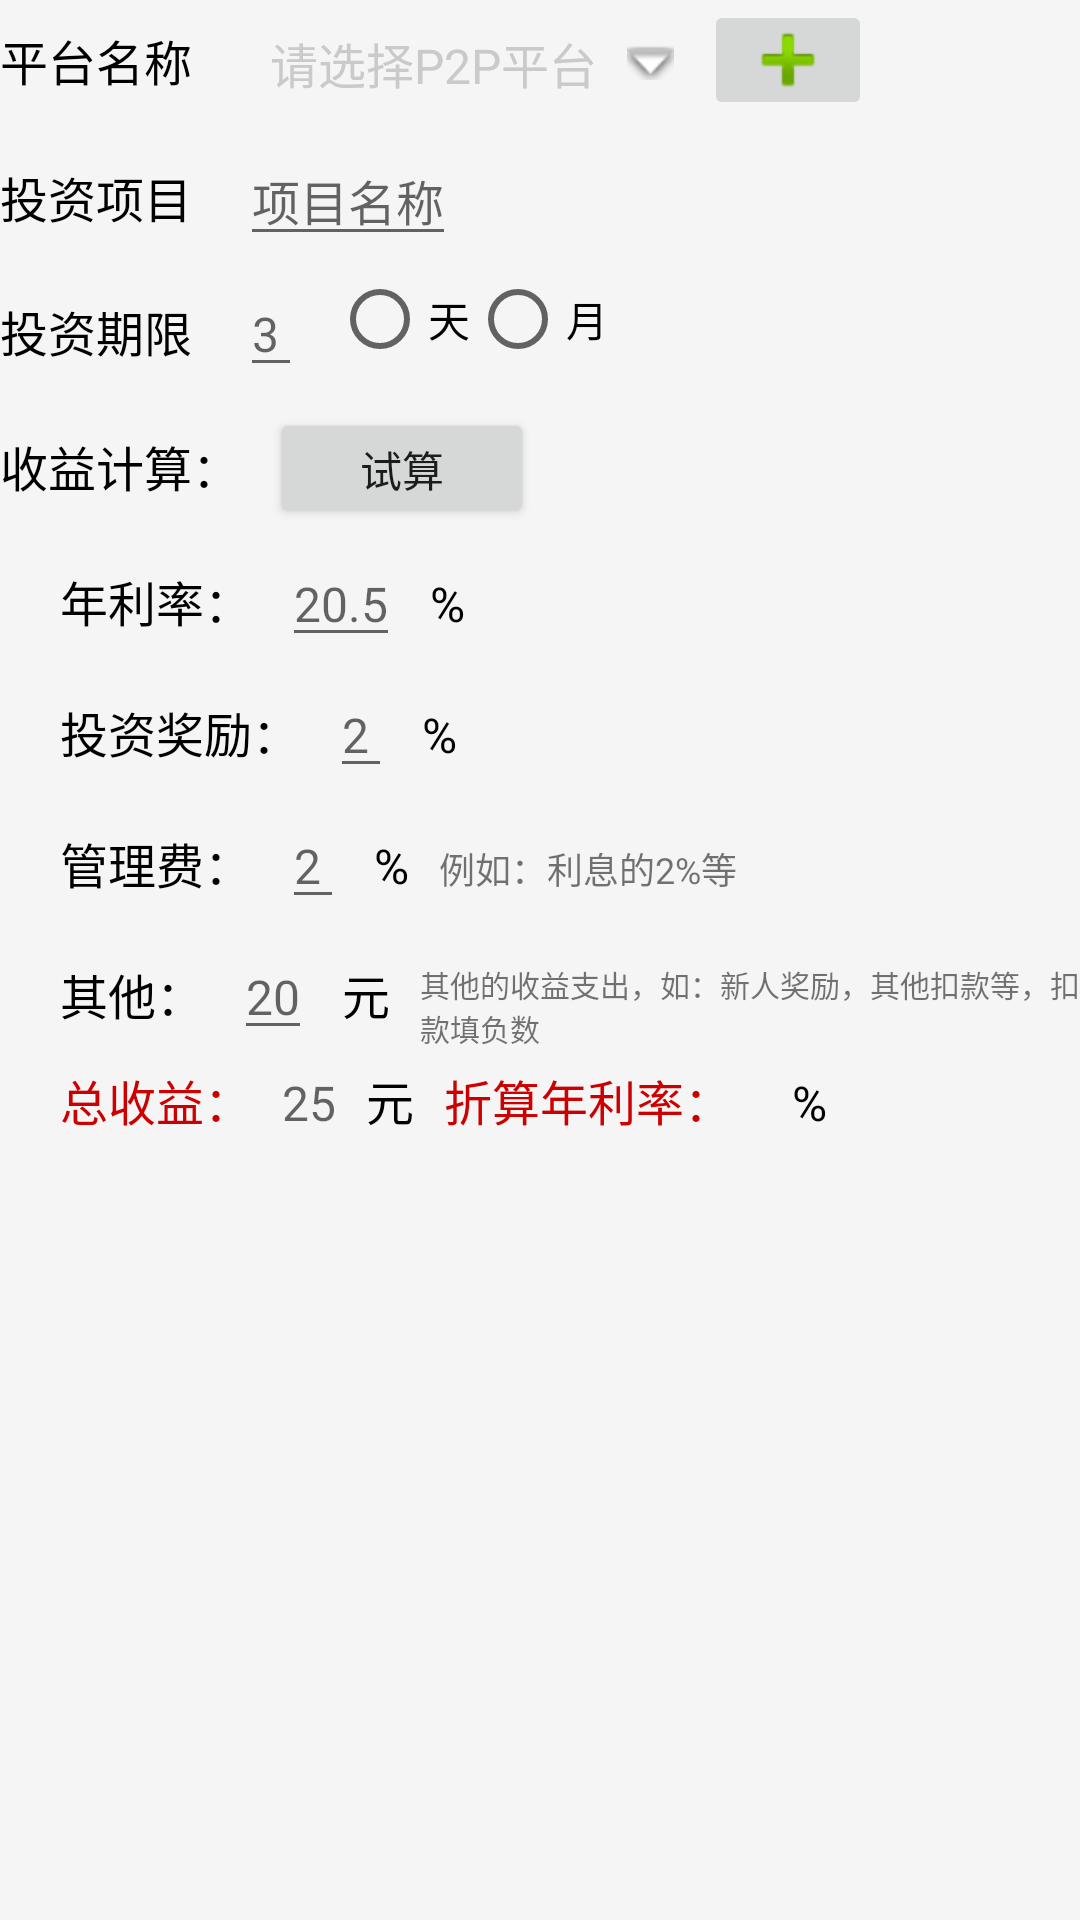

Icon bounding boxes for this 1080px x 1920px phone screenshot, format bbox=(x1, y1, x2, y2):
add: bbox=(716, 18, 860, 102)
